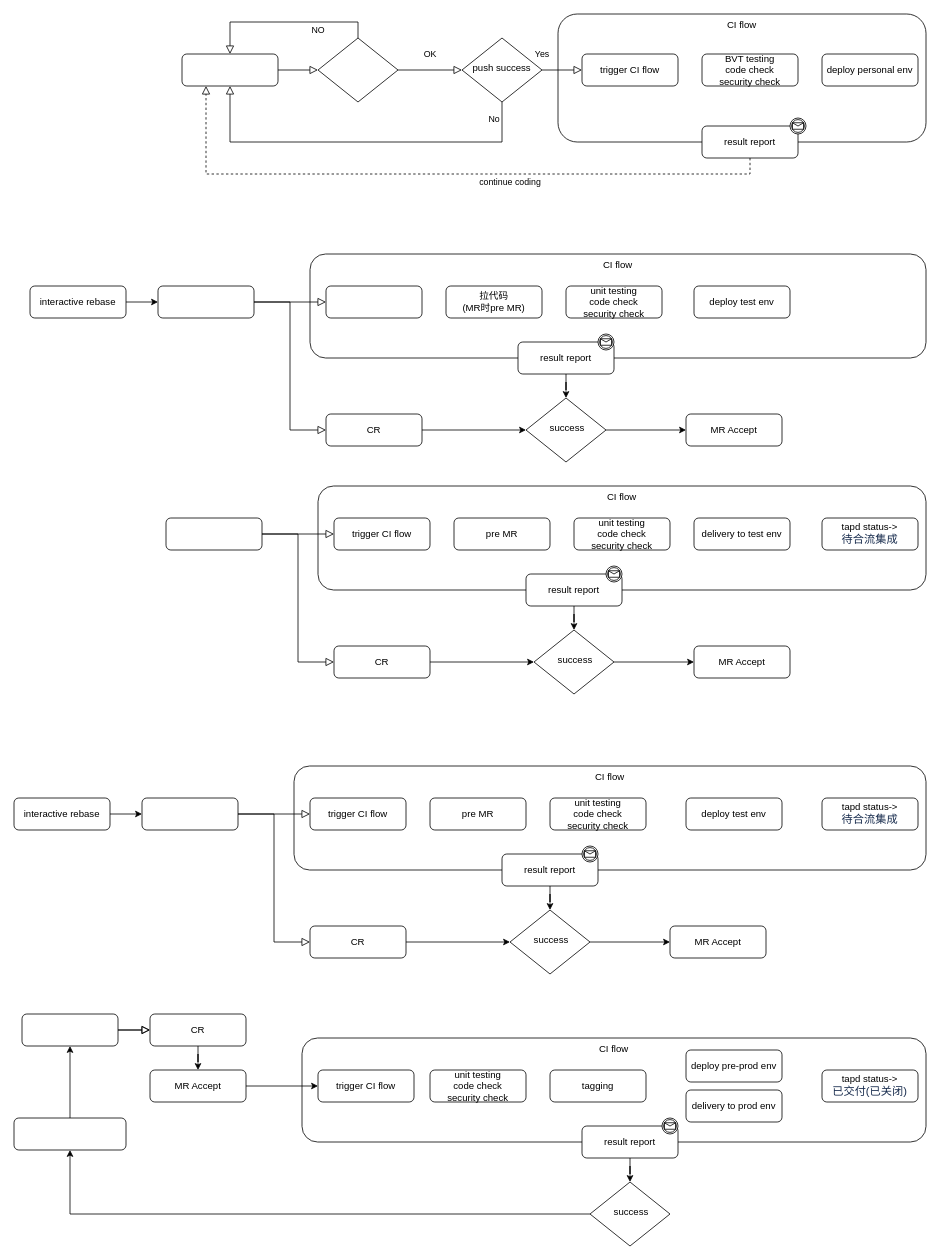
Image size: 940x1260. Some labels were removed from this diagram. The shapes that lost their labels are listed below. From the top down, each one's centre as x and y in pixels, then its label:
the point at 229,69: coding
the point at 357,69: local testing
the point at 205,301: MR personal->share
the point at 373,301: trigger CI flow 手工或MR
the point at 213,533: MR share->master
the point at 189,813: MR personal->master
the point at 69,1029: MR master->release
the point at 69,1133: fixing in feature branch mr to master
